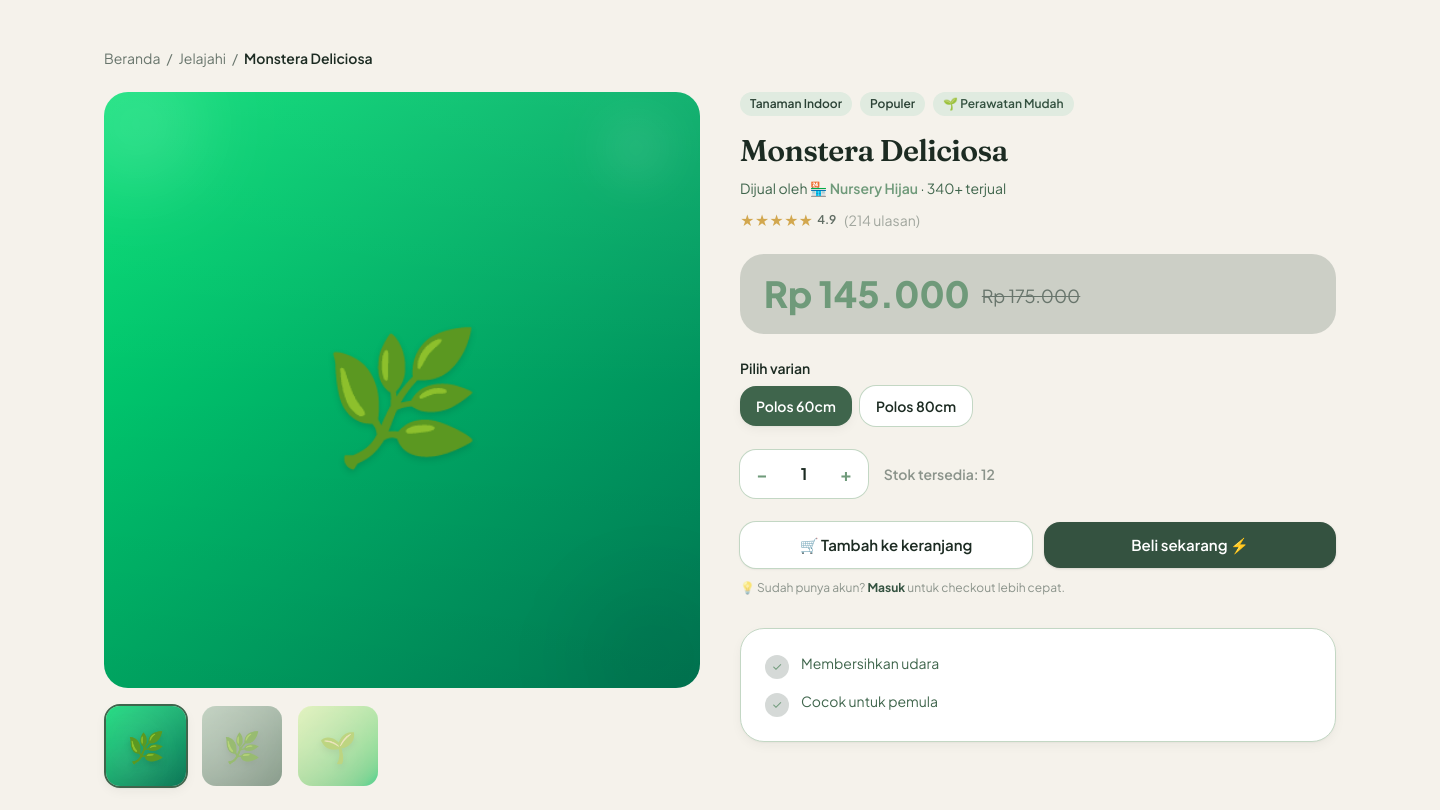
Scenario: ProductDetail Page › increments quantity on + click
Expected: the text "1" is shown, [801, 462, 807, 484]
Click the button named "tambah jumlah" at (846, 474), box [824, 450, 868, 498]
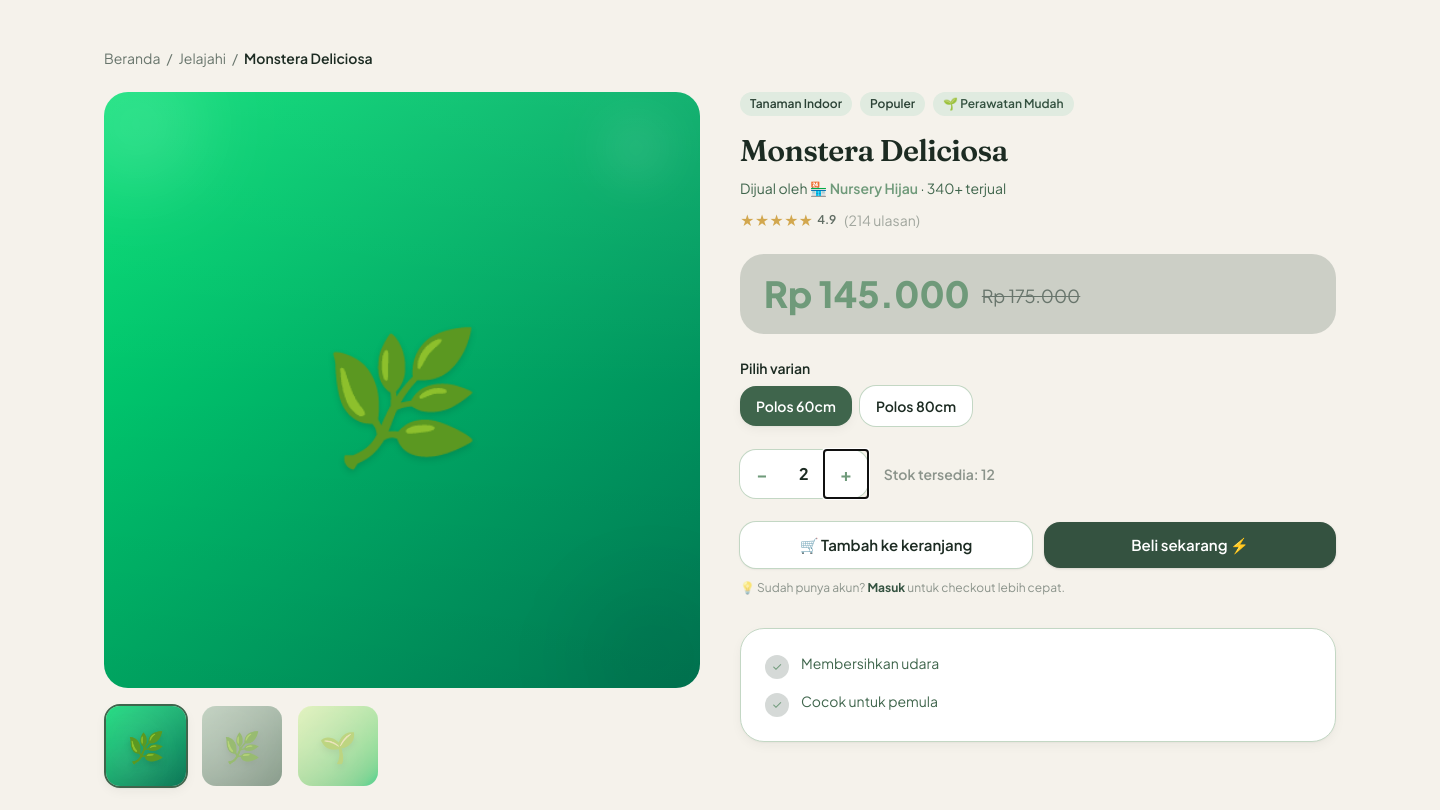
Now the text "2" is shown, box [799, 462, 809, 484]
